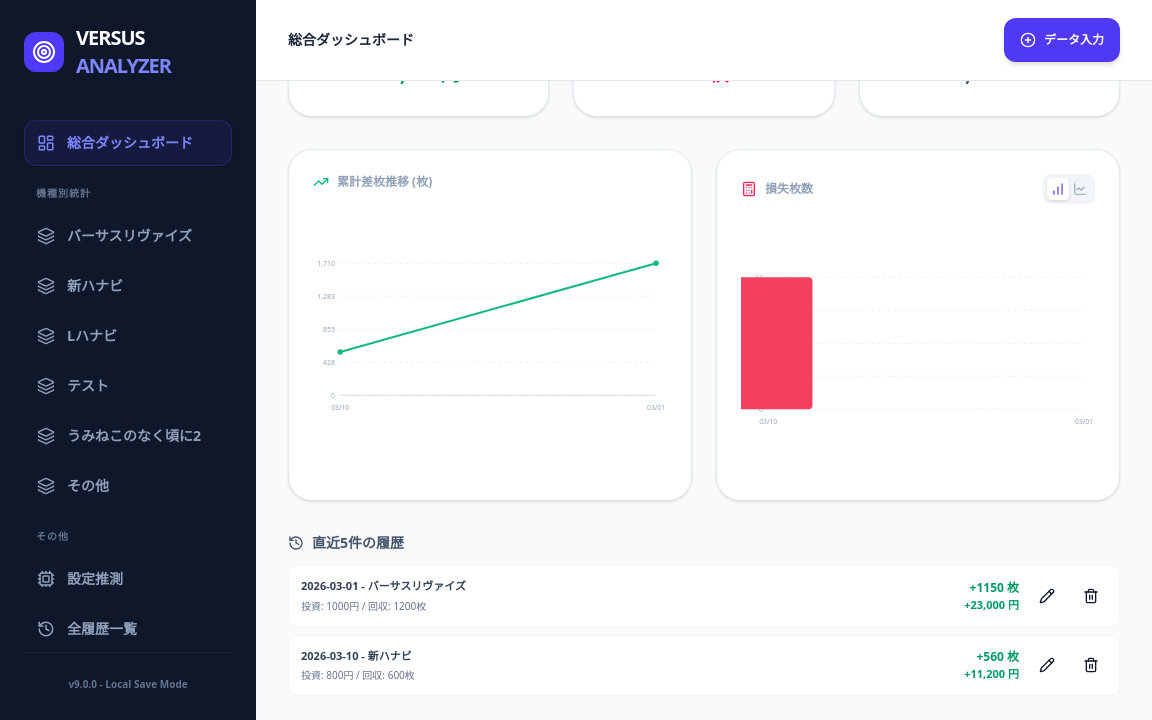
Test: App › keeps unsaved edit content when closing the edit form with x
The image size is (1152, 720).
(page scrolled)
Click the button named "直近履歴を編集: 2026-03-01 バーサスリヴァイズ" at (1047, 596), box 1031,580 -> 1063,612
(page scrolled)
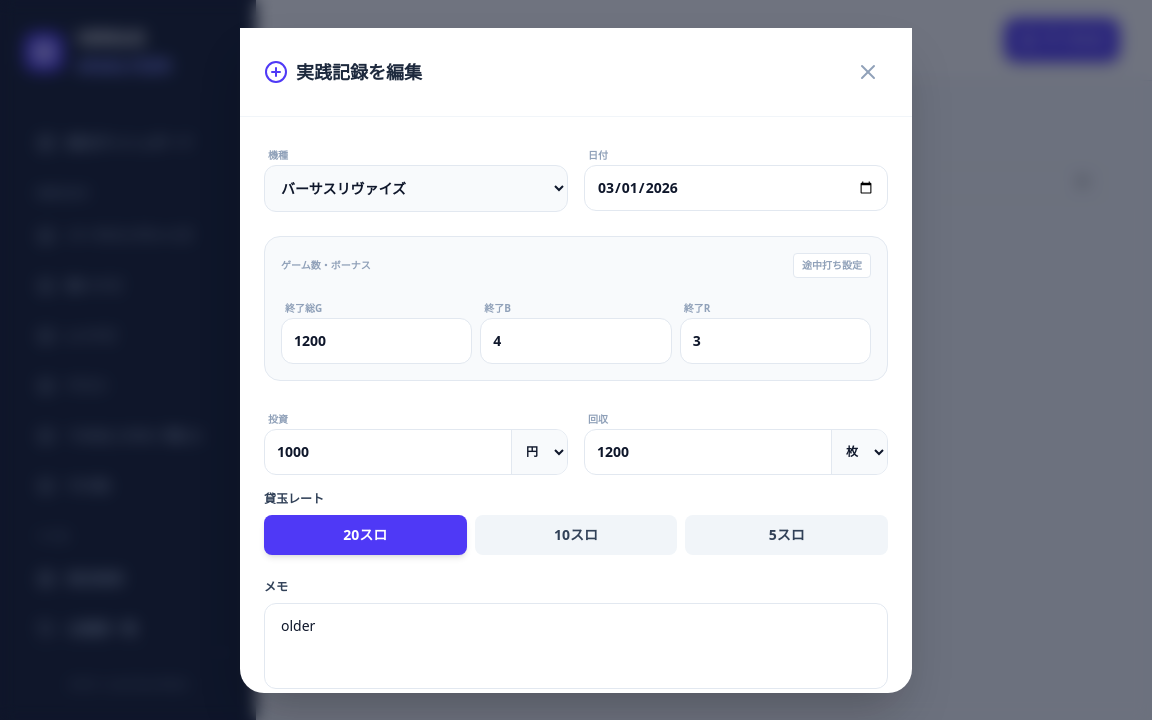
Replace the text in the text box with "draft-kept-after-close" at (576, 646), box 264,602 -> 888,688
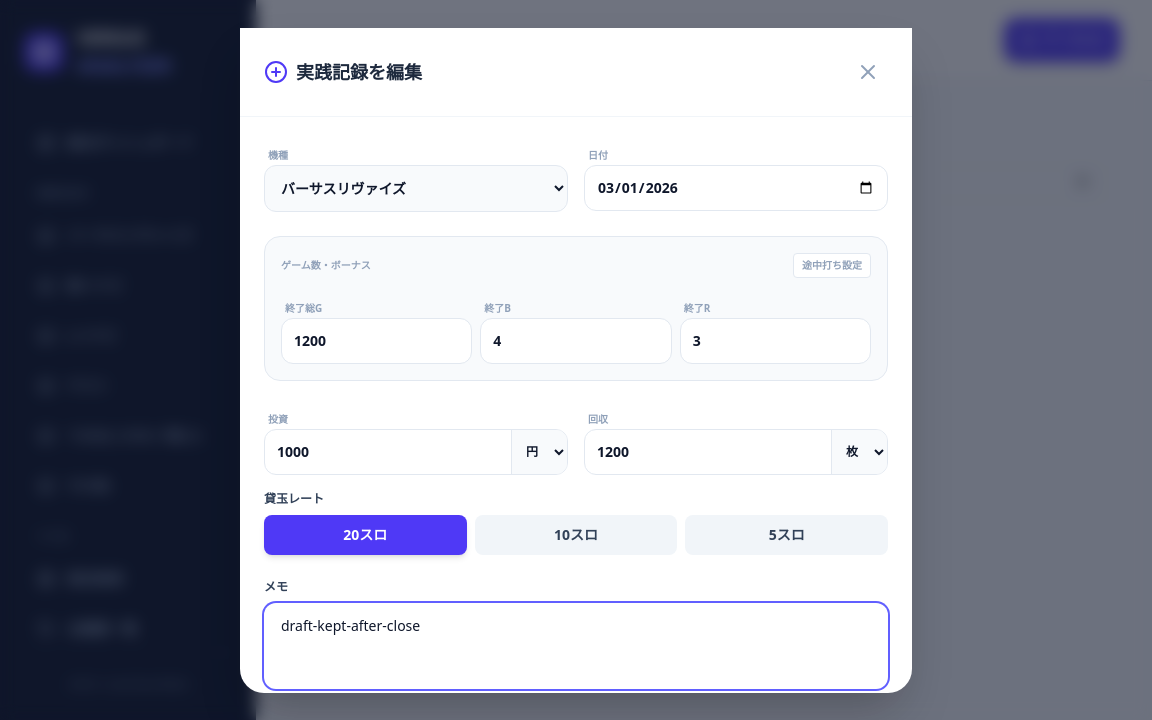
Click the button named "フォームを閉じる" at (868, 72), box 848,52 -> 888,92
(page scrolled)
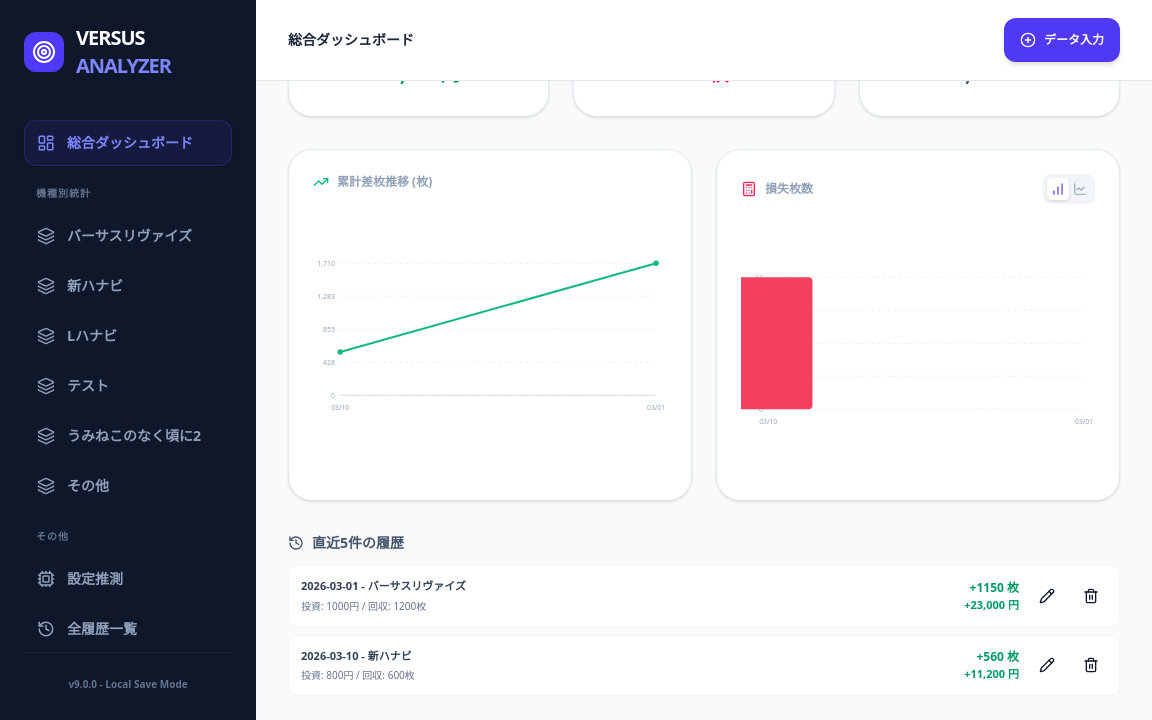
Expected: no headings "実践記録を編集" are shown
Click the button named "直近履歴を編集: 2026-03-01 バーサスリヴァイズ" at (1047, 596), box 1031,580 -> 1063,612
(page scrolled)
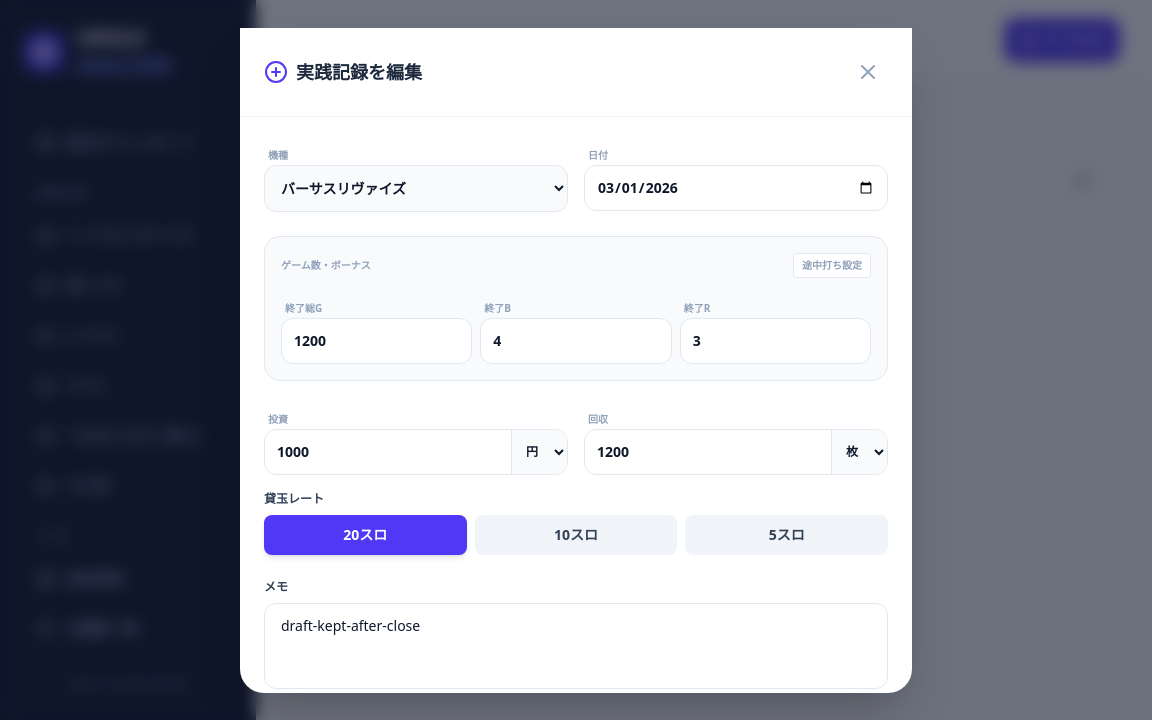
Expected: the text box holds "draft-kept-after-close", 264,602 -> 888,688
